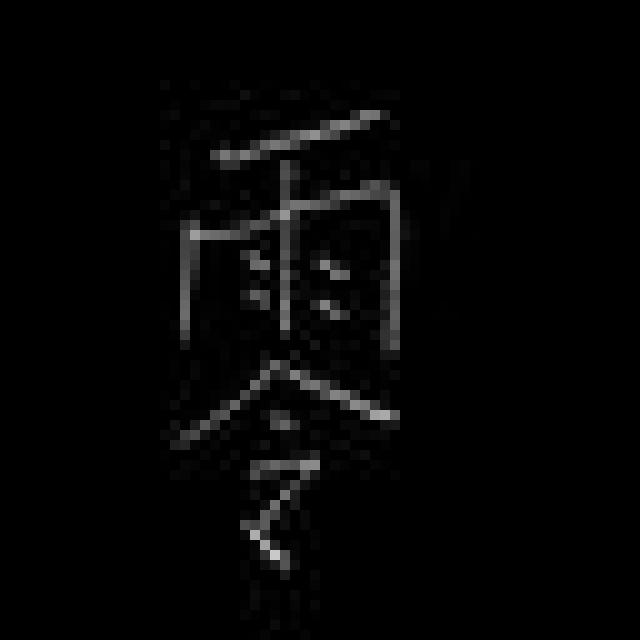0 -zero-: (159, 102, 420, 583)
